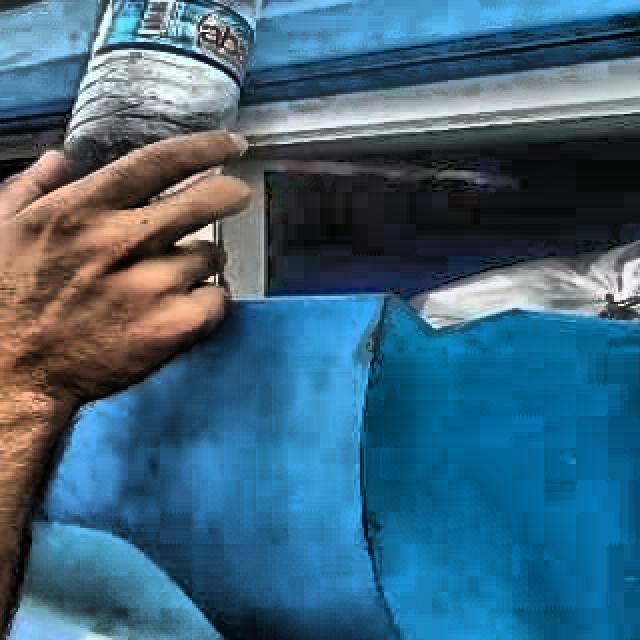plastic: (64, 0, 260, 168)
